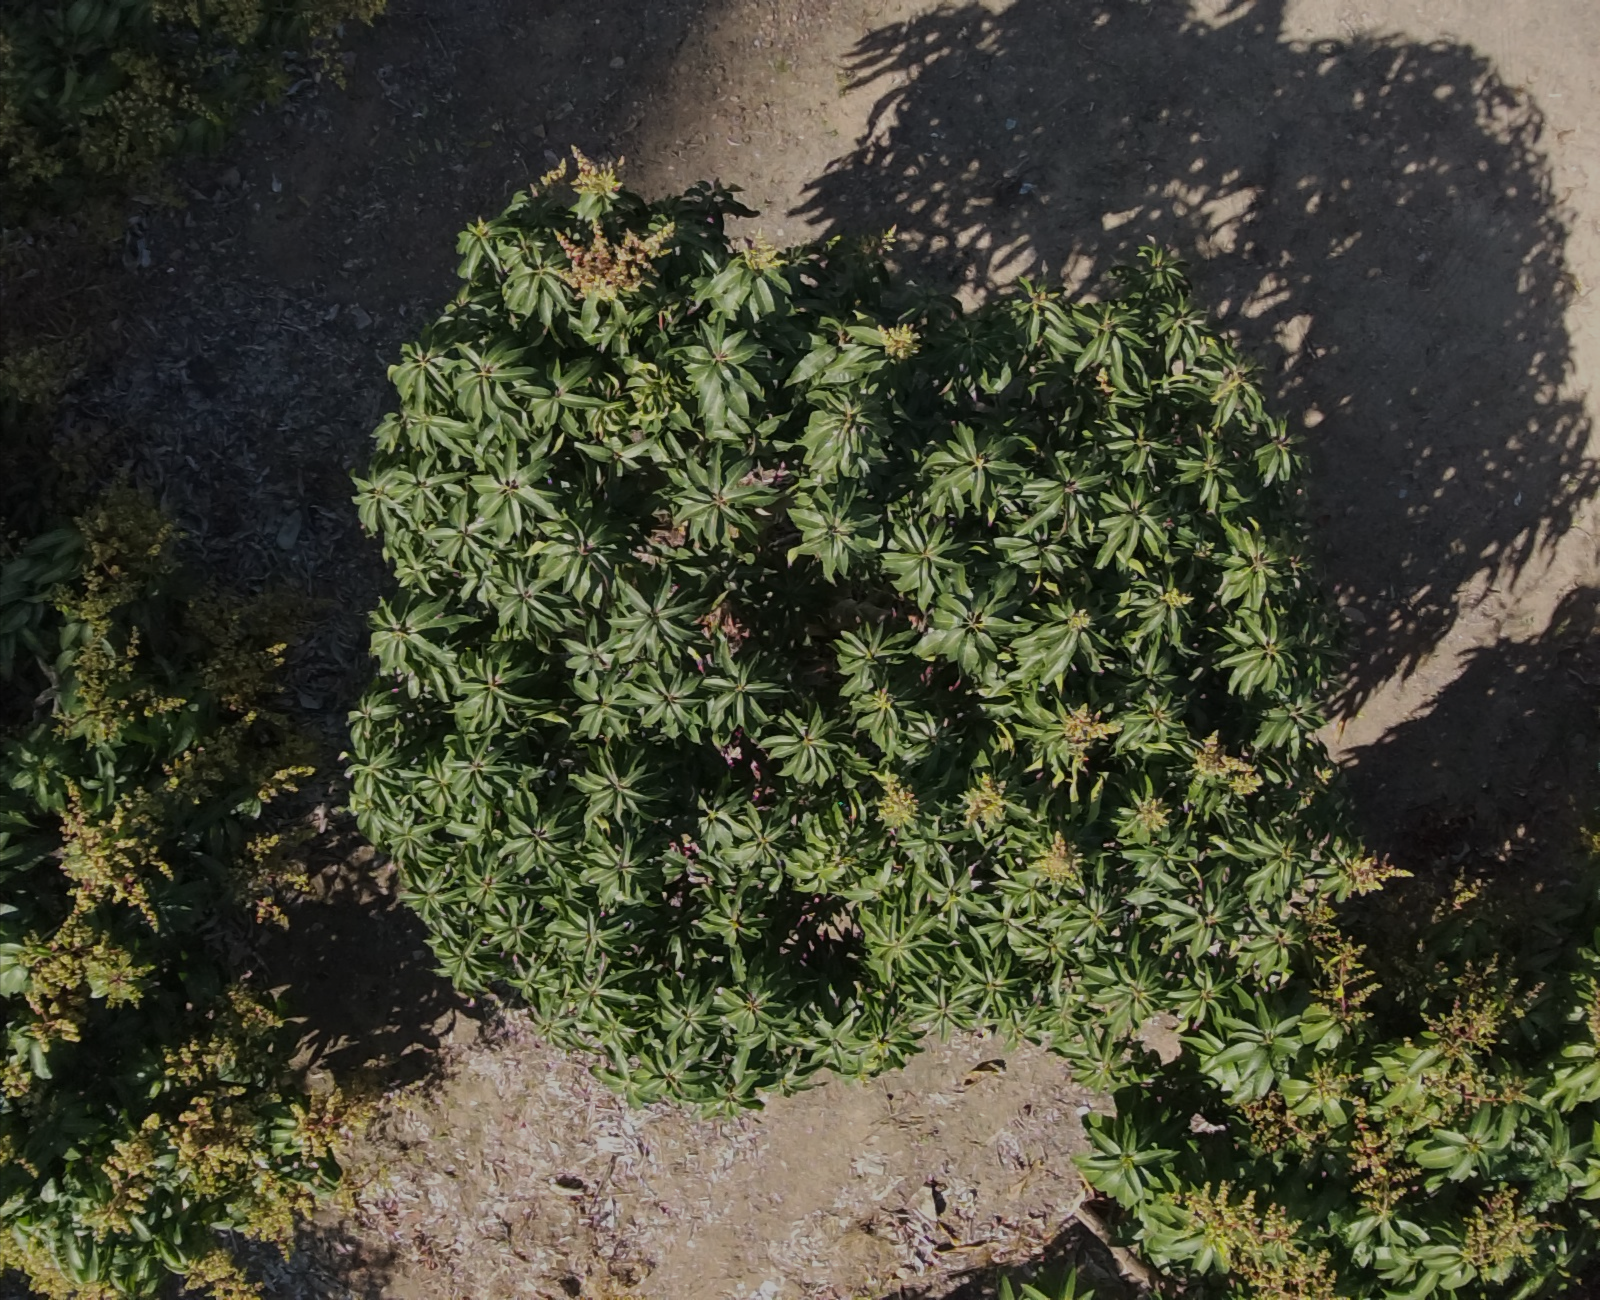flowers: (57, 486, 187, 744), (182, 592, 310, 795), (1418, 950, 1542, 1116), (1177, 1181, 1335, 1299), (61, 775, 180, 929), (1309, 1057, 1420, 1215), (25, 913, 154, 1043), (76, 46, 206, 174), (237, 1096, 341, 1252), (165, 979, 283, 1082), (81, 1112, 176, 1239), (172, 1089, 273, 1201), (150, 0, 386, 45), (0, 29, 64, 184), (1305, 901, 1378, 1028), (559, 220, 675, 298), (0, 1228, 126, 1299), (1462, 1183, 1550, 1279), (245, 833, 306, 929), (1240, 1090, 1317, 1154), (1194, 730, 1262, 795), (186, 1248, 260, 1299), (570, 149, 620, 219), (0, 1037, 42, 1113), (1343, 853, 1410, 893), (1061, 704, 1118, 749), (1033, 830, 1080, 883), (965, 772, 1006, 822), (878, 773, 917, 826), (877, 322, 919, 359), (738, 237, 784, 269), (1136, 795, 1167, 832), (1585, 972, 1599, 1047)
